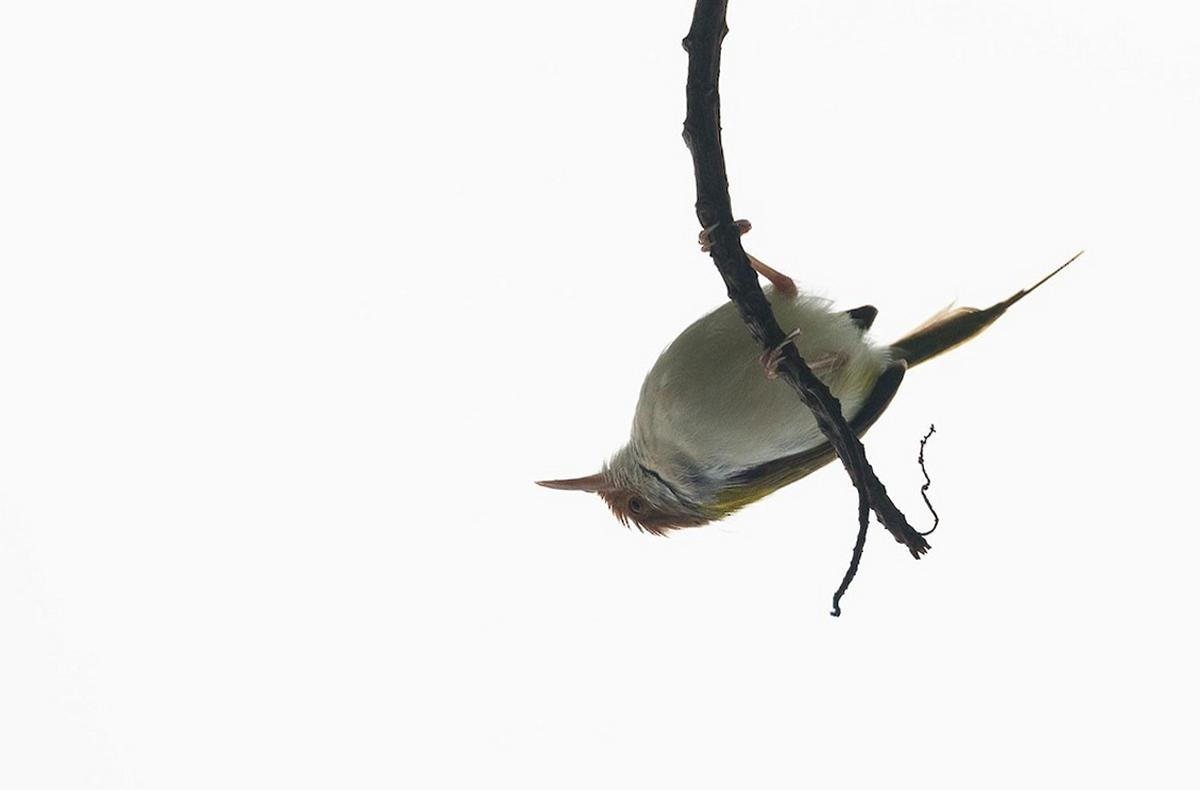tailorbird: (524, 192, 1046, 549)
